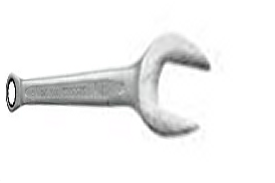wrench: (2, 37, 232, 144)
